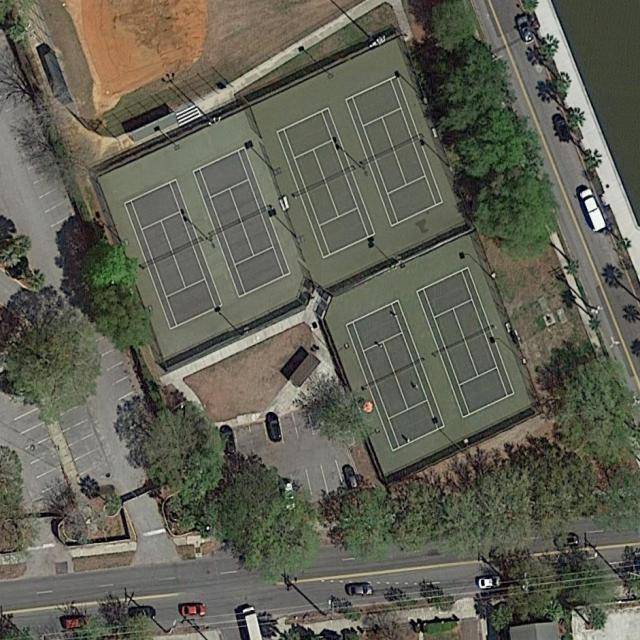large-vehicle: (579, 186, 607, 233)
small-vehicle: (552, 112, 573, 146), (516, 15, 537, 46), (280, 479, 298, 512), (221, 426, 237, 456), (128, 605, 156, 622), (267, 414, 282, 445), (341, 464, 358, 491), (64, 615, 90, 632), (477, 574, 503, 590), (348, 582, 373, 598), (182, 602, 205, 618)
